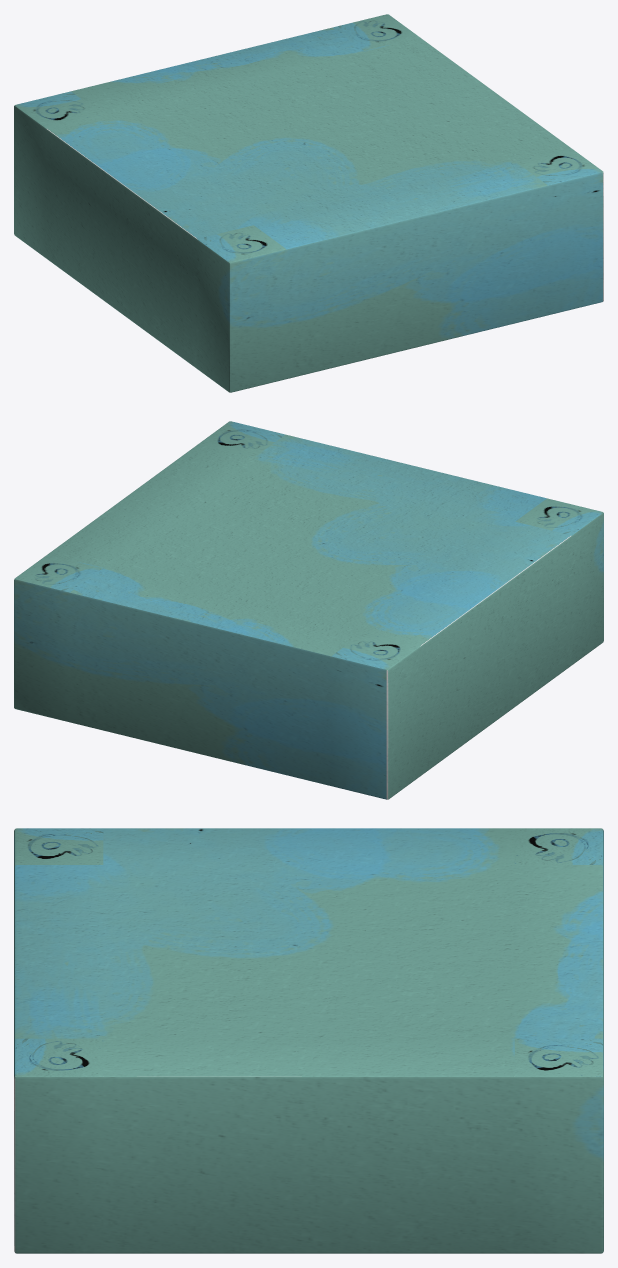
Rendered from TOMB_GROUND_3_001.obj.
3 renders of one model, top to bottom at view 1: azimuth 30°, elevation 25°; view 2: azimuth 150°, elevation 25°; view 3: azimuth 270°, elevation 25°, orthographic. The views are drawn at different scales.
Parts seen in each view (by area): view 1: TOMB_GROUND_3_001; view 2: TOMB_GROUND_3_001; view 3: TOMB_GROUND_3_001.
Boxes of the visible parts, <box> form: TOMB_GROUND_3_001: <box>14,14,603,392</box>; TOMB_GROUND_3_001: <box>14,421,603,799</box>; TOMB_GROUND_3_001: <box>14,828,603,1253</box>.
Bounding box in the file's own units: 3 × 1 × 3.
